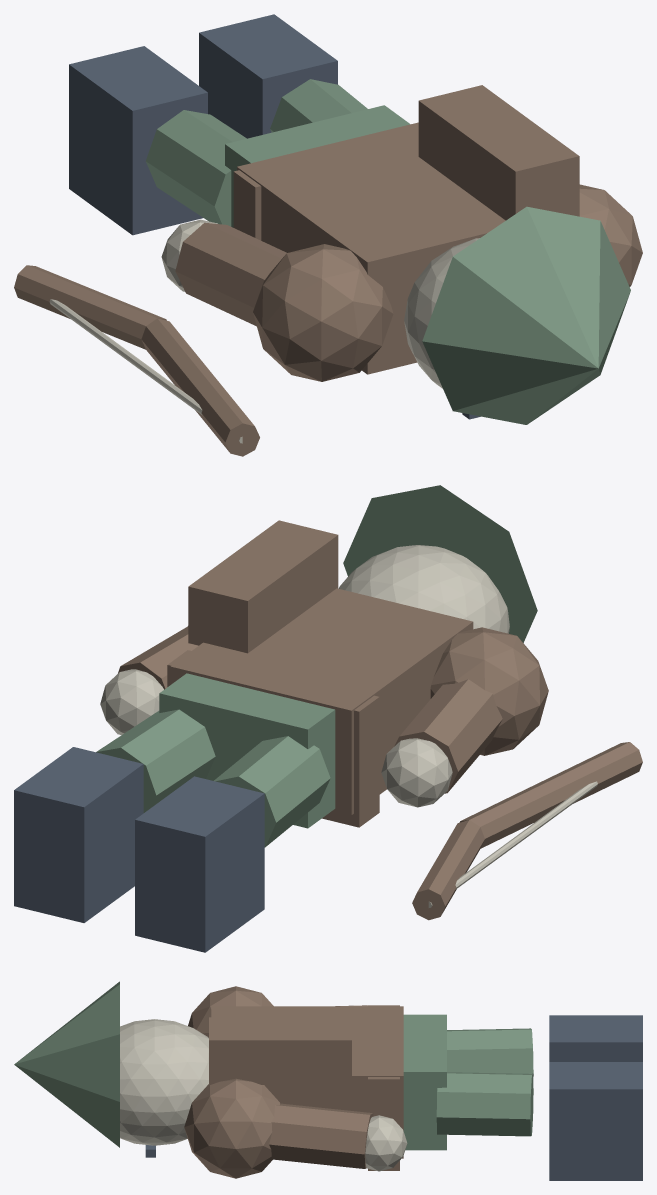
File: 03_ruin_archer.glb
3 renders of one model, top to bottom at view 1: azimuth 30°, elevation 25°; view 2: azimuth 150°, elevation 25°; view 3: azimuth 270°, elevation 25°, orthographic. The views are drawn at different scales.
Parts seen in each view (by area): view 1: hood, torso, boot-1, quiver, shoulder-1, boot1, upper_leg-1, arm-1, bow_upper, bow_lower, hips, head (+5 smaller); view 2: torso, boot-1, boot1, quiver, hood, hips, head, shoulder-1, upper_leg-1, upper_leg1, bow_upper, arm-1 (+6 smaller); view 3: boot1, head, quiver, hood, torso, shoulder1, upper_leg1, hips, arm1, boot-1, upper_leg-1, hand1 (+2 smaller).
Boxes of the visible parts, x1,y1,x2,y2 form: hood: [422, 206, 630, 424]; torso: [237, 122, 505, 374]; boot-1: [69, 46, 207, 235]; quiver: [418, 85, 579, 220]; shoulder-1: [253, 244, 393, 381]; boot1: [199, 14, 337, 138]; upper_leg-1: [145, 110, 246, 226]; arm-1: [175, 222, 286, 326]; bow_upper: [141, 318, 259, 456]; bow_lower: [14, 265, 166, 349]; hips: [225, 105, 409, 227]; head: [404, 238, 479, 388]; torso: [170, 588, 473, 815]; boot-1: [135, 776, 264, 952]; boot1: [14, 747, 143, 922]; quiver: [188, 520, 338, 653]; hood: [343, 485, 537, 642]; hips: [159, 673, 335, 828]; head: [339, 545, 509, 633]; shoulder-1: [430, 627, 548, 755]; upper_leg-1: [214, 736, 330, 847]; upper_leg1: [96, 709, 215, 812]; bow_upper: [459, 742, 642, 848]; arm-1: [394, 679, 502, 793]; boot1: [549, 1062, 642, 1180]; head: [120, 1019, 208, 1145]; quiver: [209, 1017, 351, 1084]; hood: [14, 981, 119, 1147]; torso: [211, 1006, 403, 1158]; shoulder1: [184, 1078, 280, 1178]; upper_leg1: [436, 1072, 533, 1136]; hips: [403, 1014, 446, 1150]; arm1: [269, 1103, 373, 1168]; boot-1: [549, 1015, 642, 1061]; upper_leg-1: [447, 1028, 533, 1076]; hand1: [365, 1115, 407, 1171].
Bounding box in the file's own units: 1.53 × 0.725 × 2.55.
